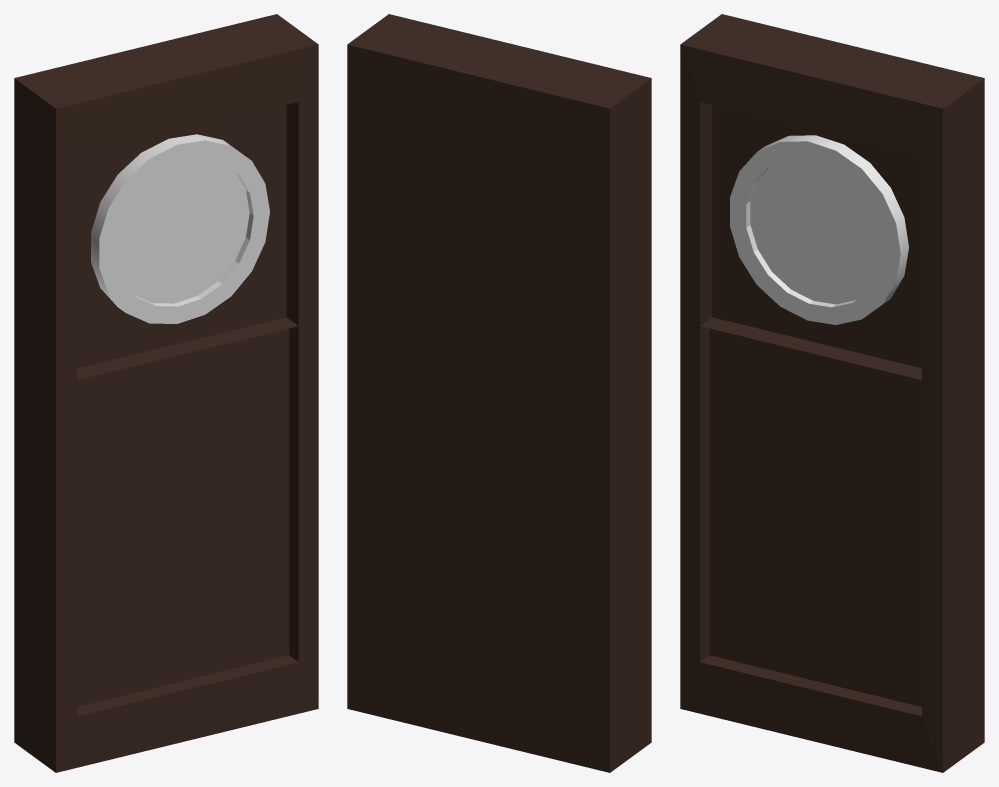
The model's file is KlockW.fbx.
3 renders of one model, left to right at view 1: azimuth 30°, elevation 25°; view 2: azimuth 150°, elevation 25°; view 3: azimuth 330°, elevation 25°, orthographic.
Parts seen in each view (by area): view 1: polySurface3; view 2: polySurface3; view 3: polySurface3.
Boxes of the visible parts, x1,y1,x2,y2 form: polySurface3: [14, 14, 318, 772]; polySurface3: [347, 14, 651, 772]; polySurface3: [680, 14, 984, 772].
Bounding box in the file's own units: 2.69 × 6.49 × 0.7498.
